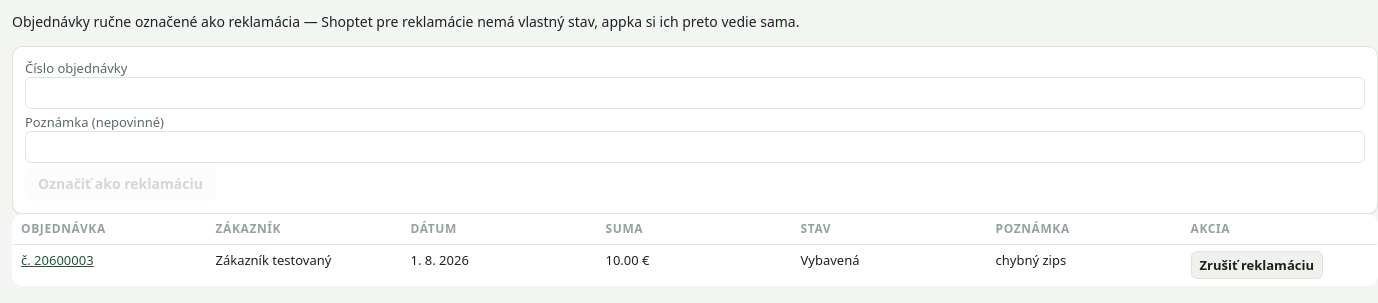
Scenario: zrušenie reklamácie zavolá clearOrderClaim a obnoví zoznam
Expected: the row with test id "claim-row-20600003" is shown, [12, 244, 1377, 285]
Click the button with test id "claim-clear-20600003": (1257, 265) [1190, 251, 1323, 279]
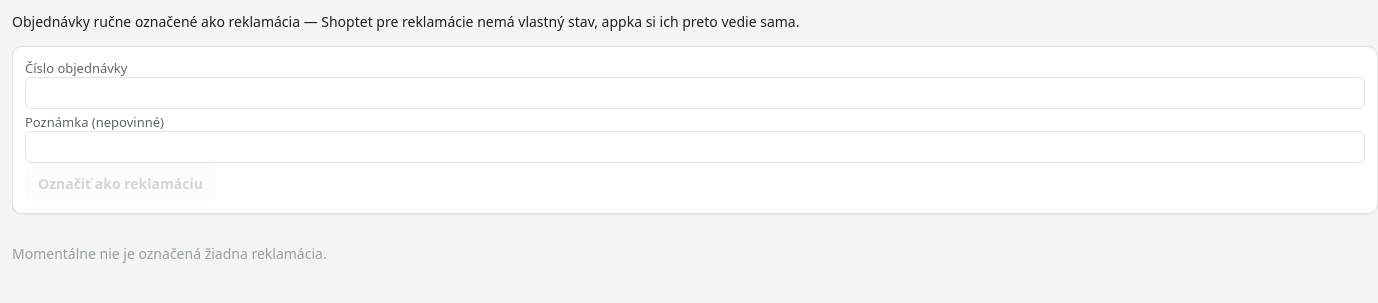
Now the text "Momentálne nie je označená žiadna reklamácia." is shown, box [12, 244, 327, 263]
